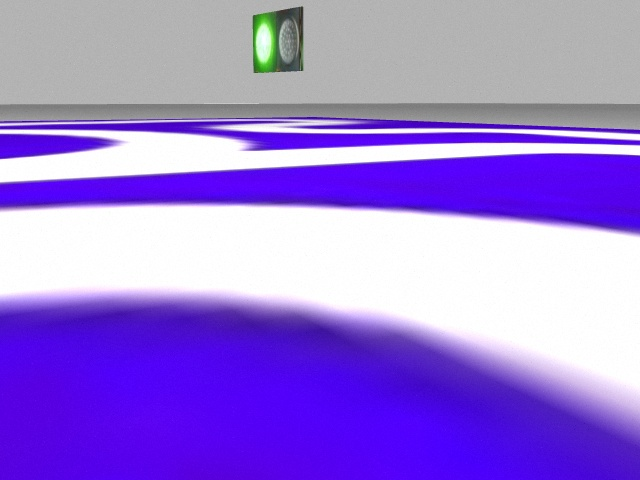green: (252, 17, 277, 71)
